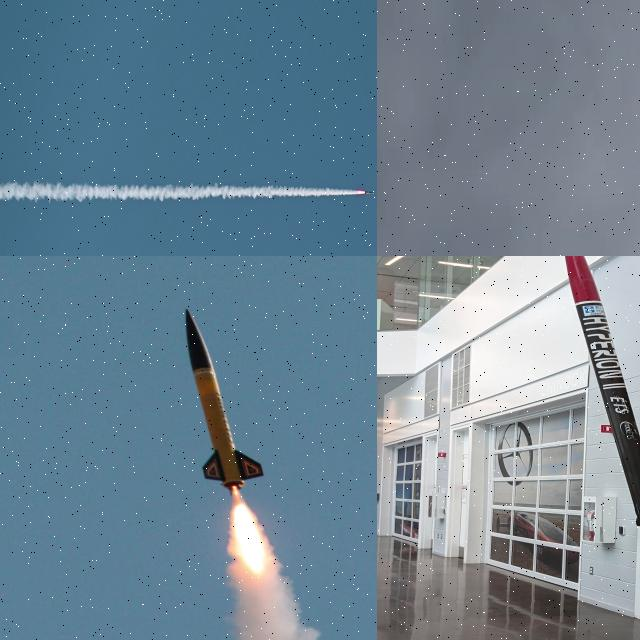Rocket: (565, 256, 640, 528), (183, 308, 265, 492), (365, 191, 374, 194)
